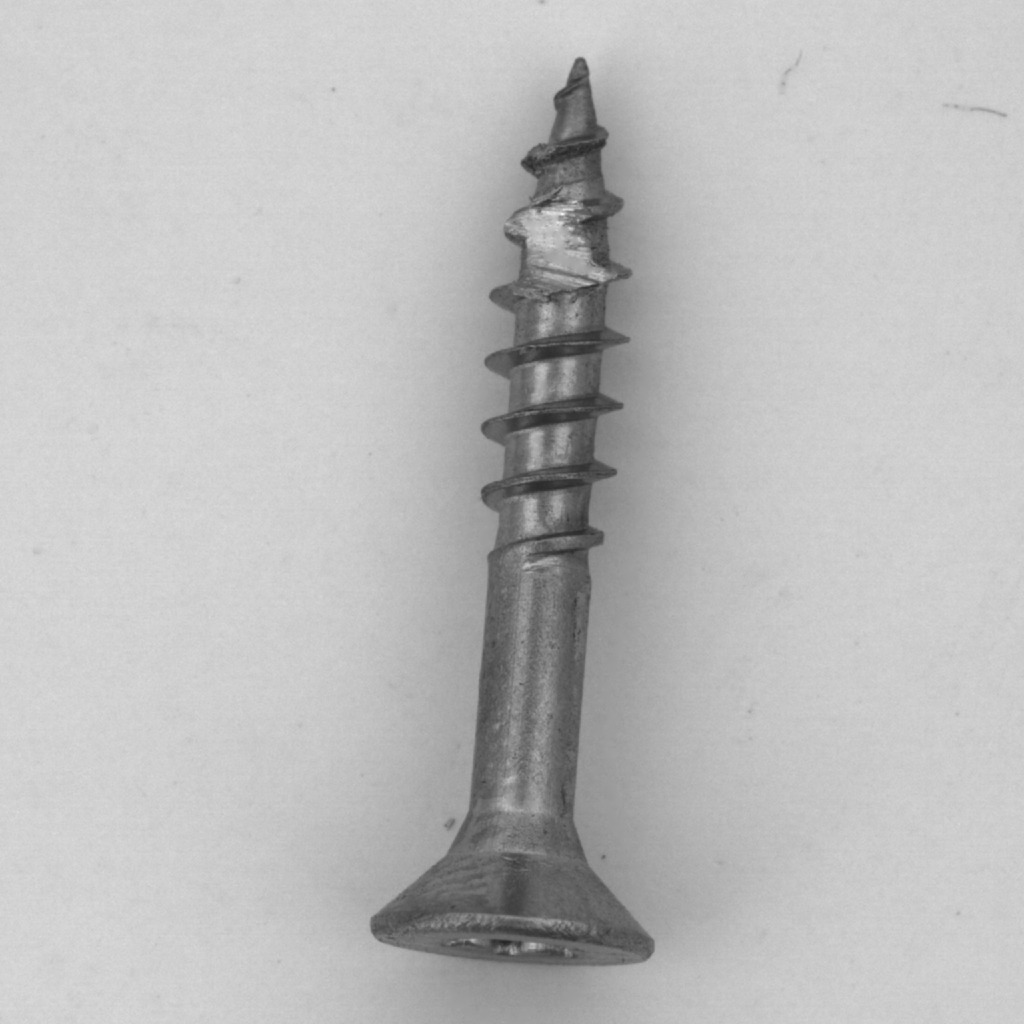thread_top: (415, 160, 732, 362)
